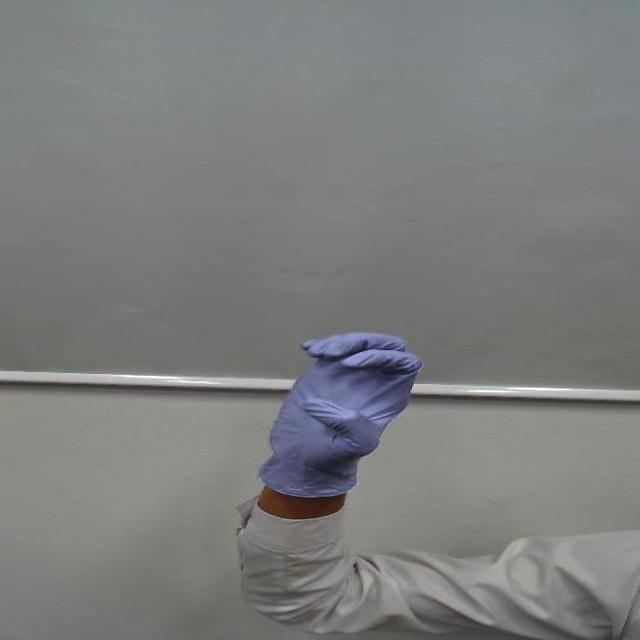glove: (234, 320, 431, 483)
